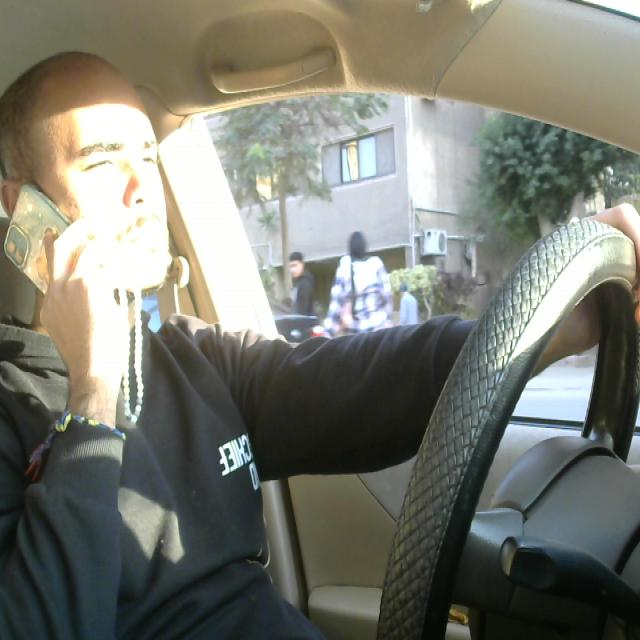mobile use: (3, 168, 129, 333)
